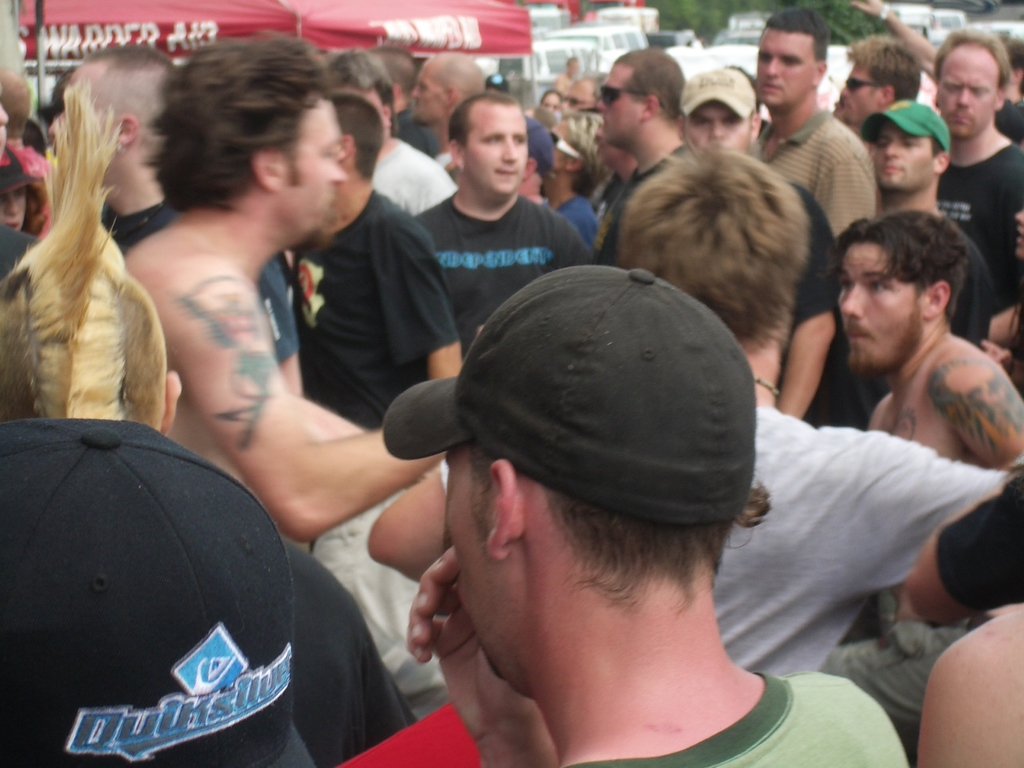face: (46, 78, 119, 171)
